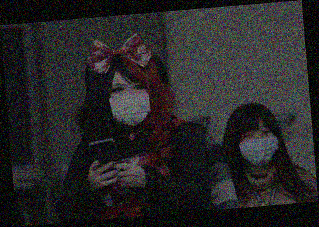with_mask: (108, 79, 153, 127), (237, 124, 279, 169)
